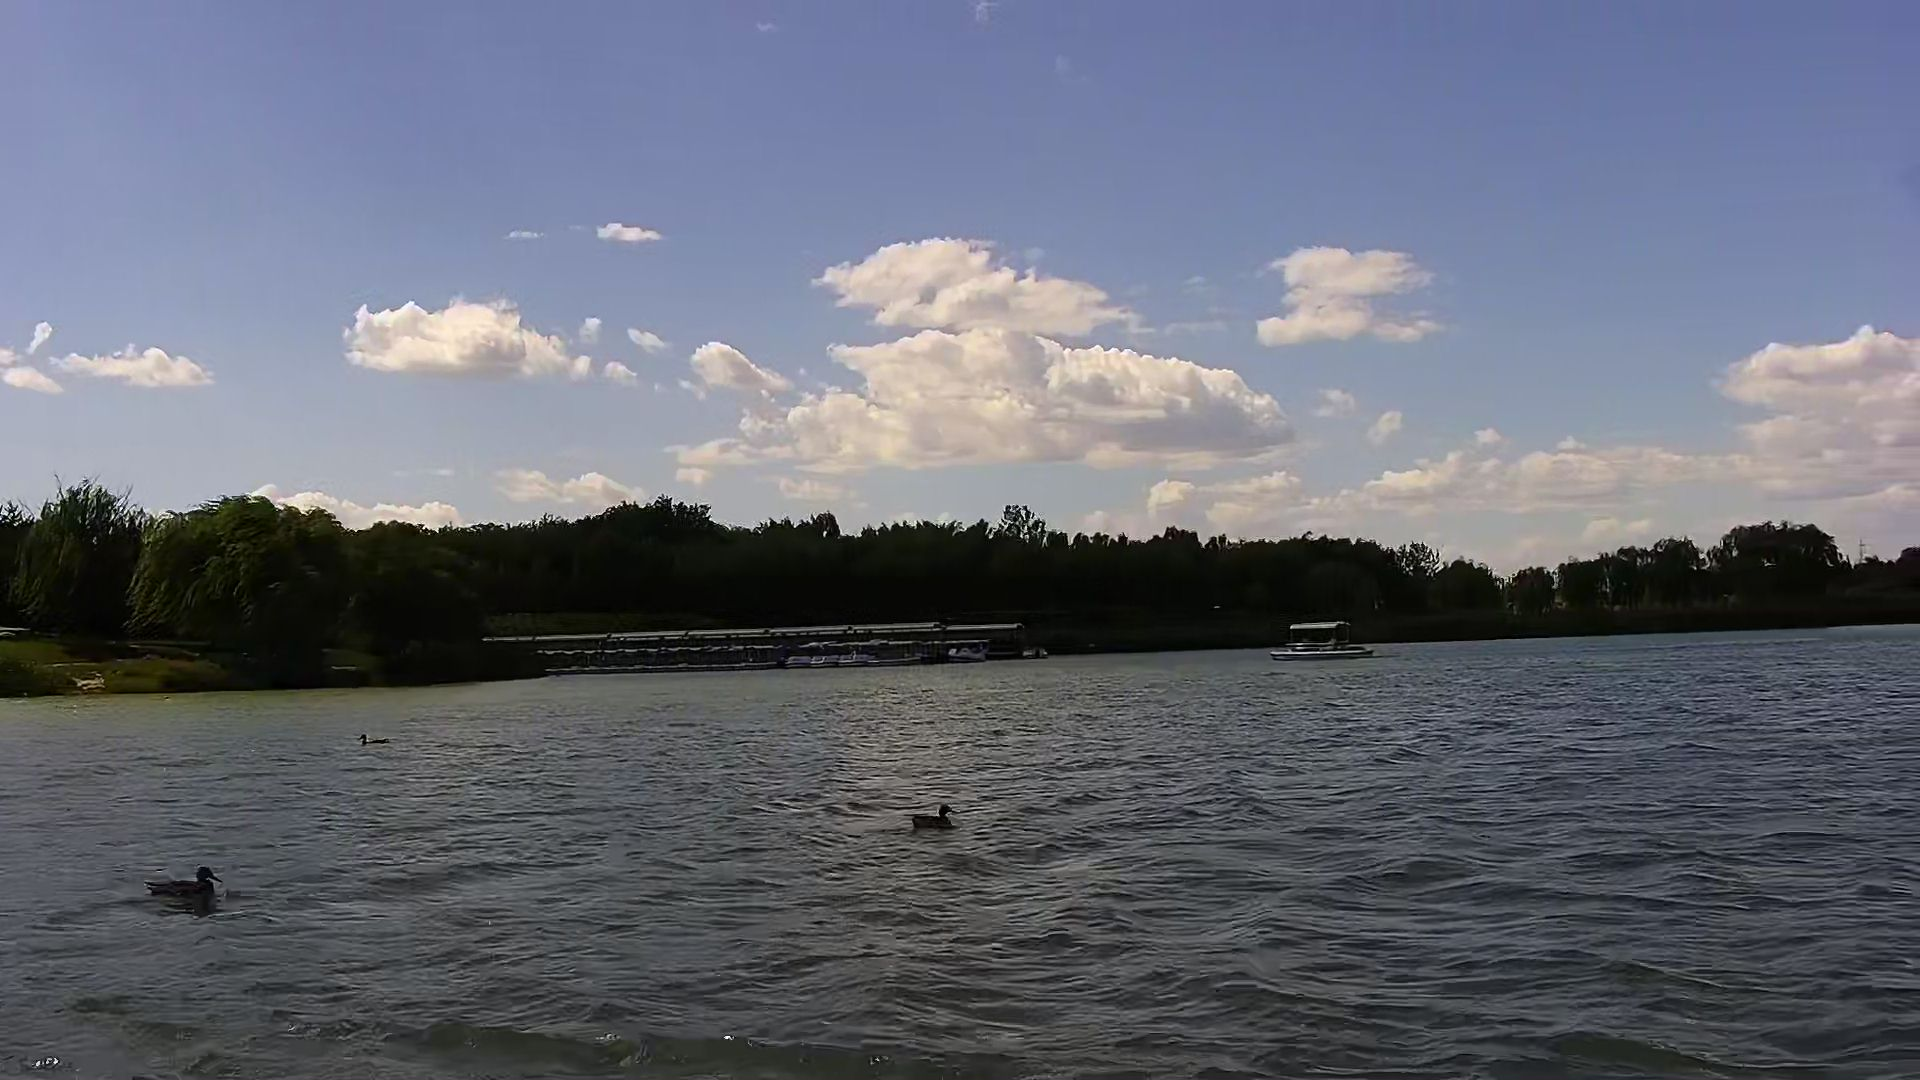animal: (145, 866, 218, 905), (910, 806, 952, 829)
boat: (1271, 618, 1373, 665)
harbor: (545, 630, 1018, 665)
rock: (78, 679, 108, 694)
